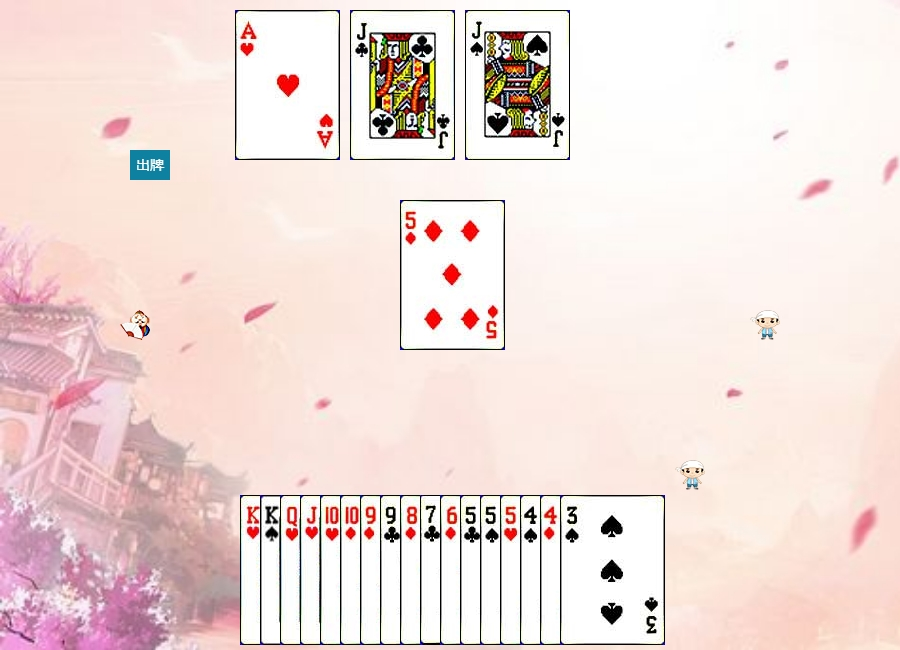10~1: (340, 495, 445, 645)
10~3: (320, 495, 425, 645)
11~2: (350, 10, 455, 160)
11~3: (300, 495, 405, 645)
11~4: (465, 10, 570, 160)
12~3: (280, 495, 385, 645)
13~3: (240, 495, 345, 645)
13~4: (260, 495, 365, 645)
14~3: (235, 10, 340, 160)
3~4: (560, 495, 665, 645)
4~1: (540, 495, 645, 645)
4~4: (520, 495, 625, 645)
5~1: (400, 200, 505, 350)
5~2: (460, 495, 565, 645)
5~3: (500, 495, 605, 645)
5~4: (480, 495, 585, 645)
6~1: (440, 495, 545, 645)
7~2: (420, 495, 525, 645)
8~1: (400, 495, 505, 645)
9~1: (360, 495, 465, 645)
9~2: (380, 495, 485, 645)
